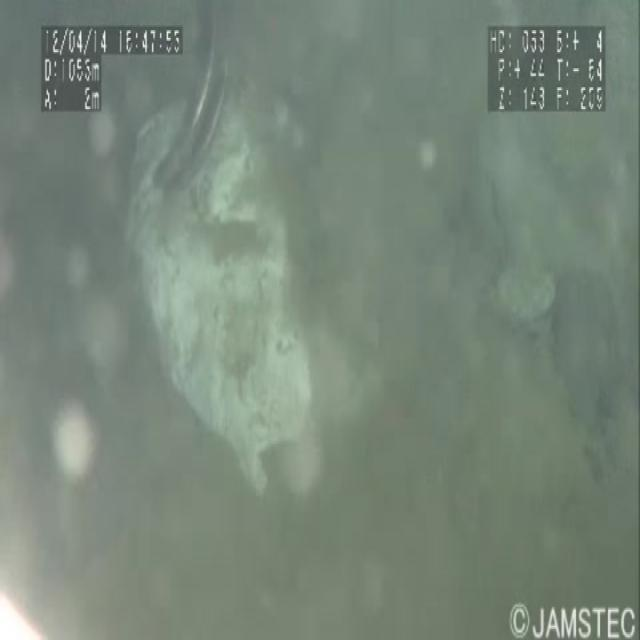Plastic: (124, 107, 344, 504)
